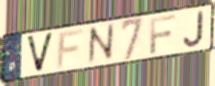7: (119, 15, 145, 63)
F: (55, 27, 85, 70), (149, 13, 178, 56)
J: (181, 9, 205, 49)
N: (87, 21, 116, 68)
V: (24, 31, 56, 75)
